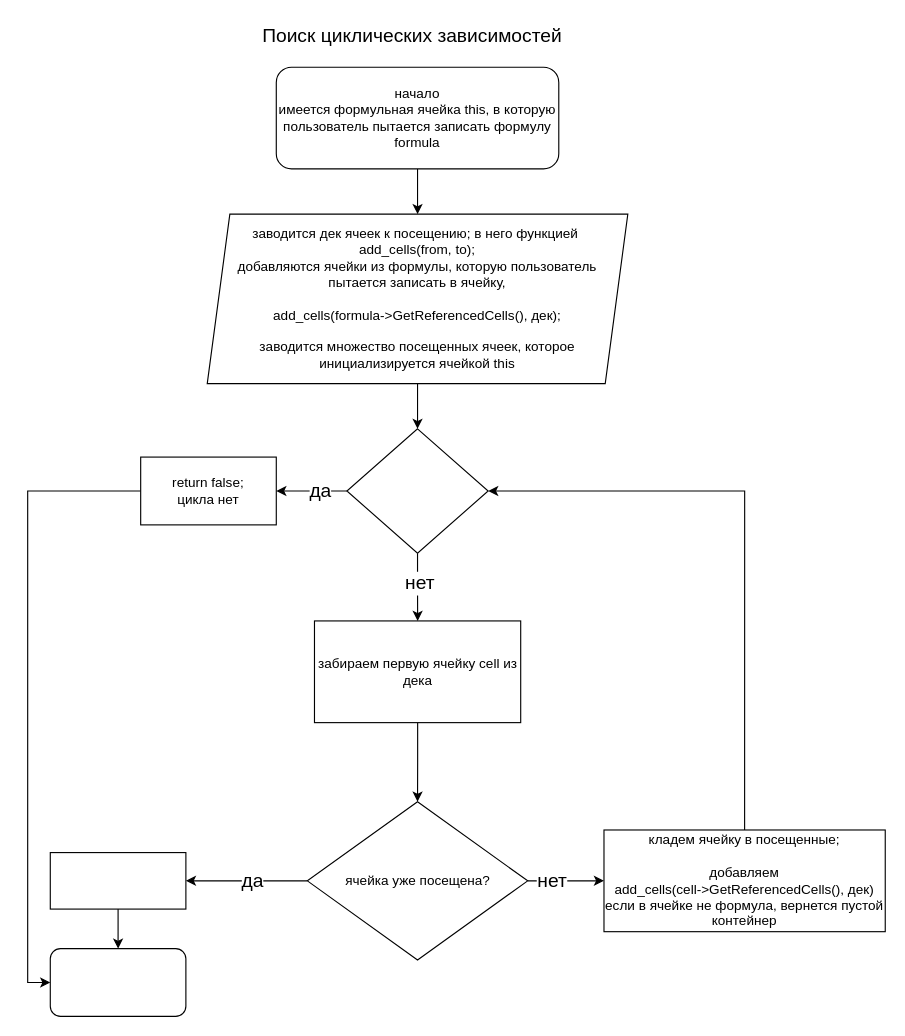
Image size: 905x1036. Some labels were removed from this diagram. Here are the shapes that lost their labels. From the top down, the box of each, then its label:
(346, 428, 488, 553): дек пуст?
(49, 851, 186, 909): return true; цикл есть
(49, 948, 186, 1016): конец
